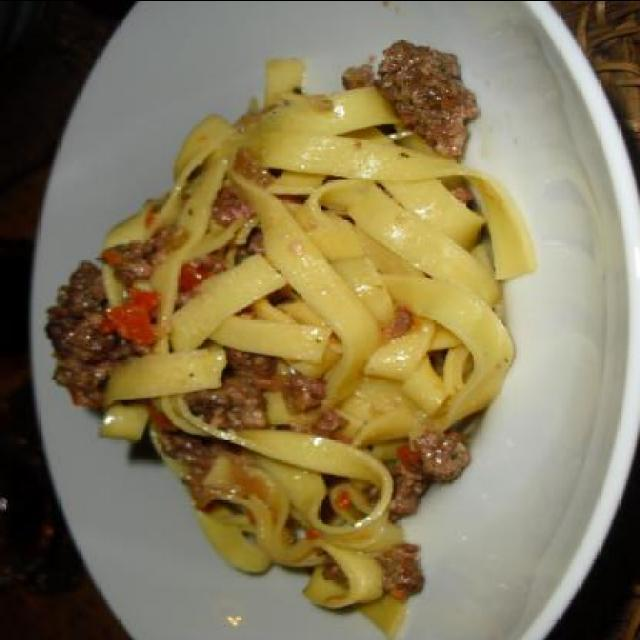Pasta al ragu: (22, 25, 510, 577)
